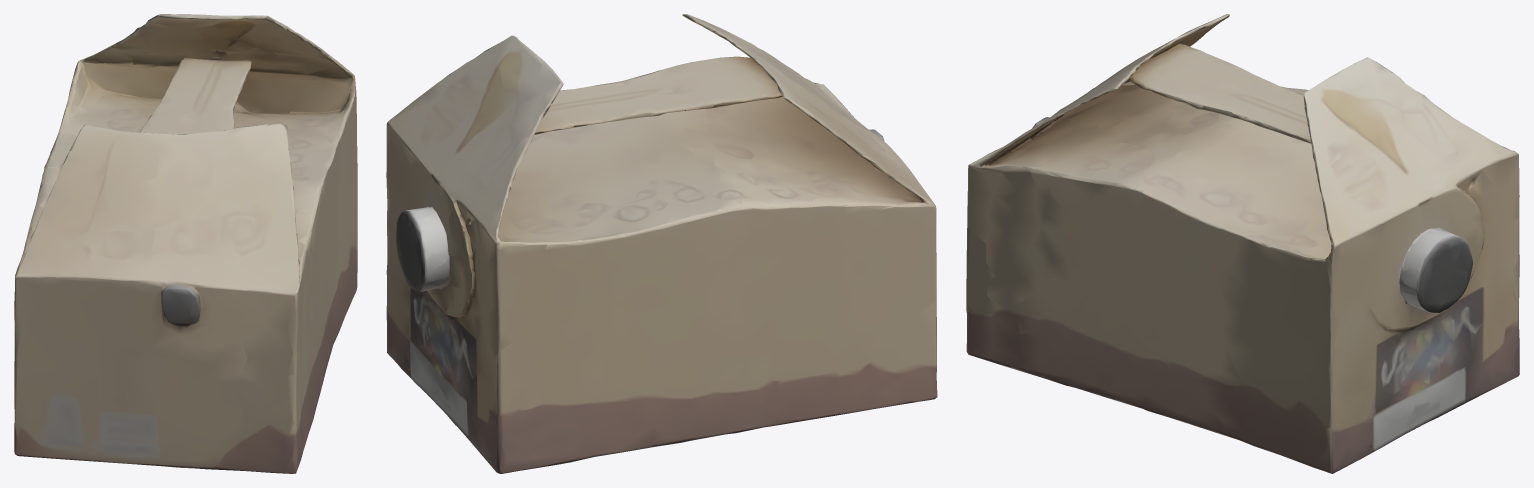
File: 0009_mask_010_cardboard_carrier.glb
3 renders of one model, left to right at view 1: azimuth 30°, elevation 25°; view 2: azimuth 150°, elevation 25°; view 3: azimuth 270°, elevation 25°, orthographic. The views are drawn at different scales.
Visible parts, largest first — view 1: mask_010_object; view 2: mask_010_object; view 3: mask_010_object.
Boxes of the visible parts, x1,y1,x2,y2 form: mask_010_object: (14, 14, 357, 473); mask_010_object: (386, 14, 937, 473); mask_010_object: (966, 14, 1519, 473).
Bounding box in the file's own units: 0.3545 × 0.247 × 0.3772.
